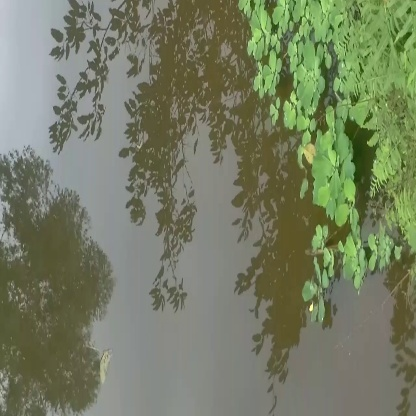grass: (303, 127, 370, 225)
